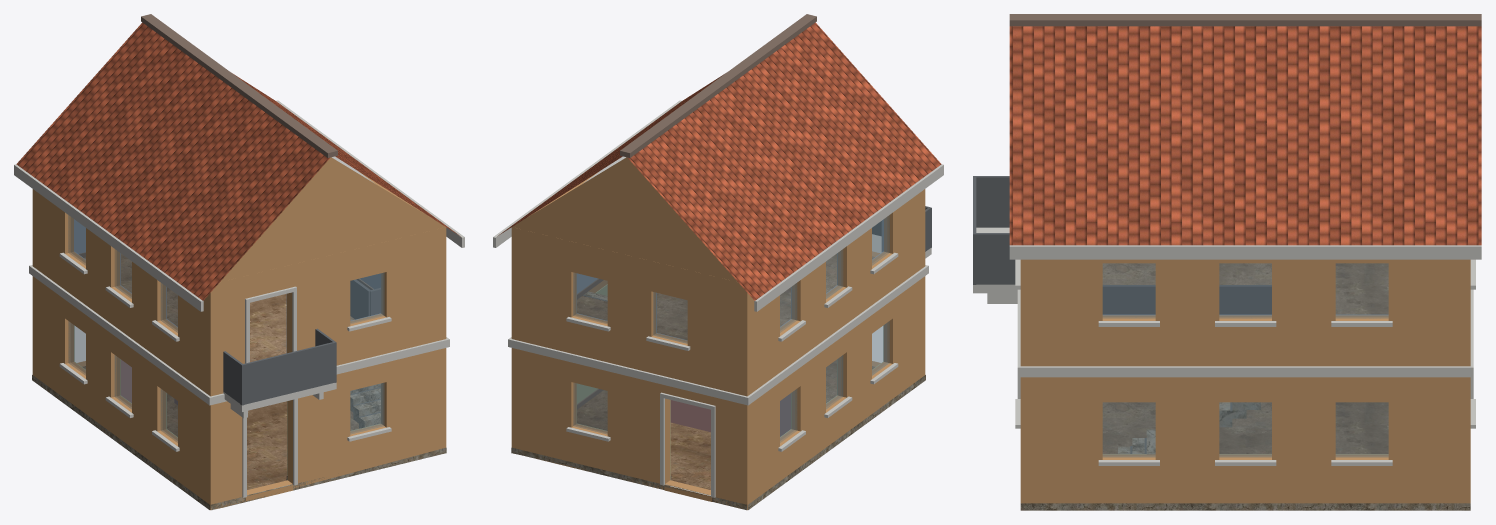
File: cove-house-orange.zfix-v9.lod0.glb
3 views of the same model, side by side, from view 1: azimuth 30°, elevation 25°; view 2: azimuth 150°, elevation 25°; view 3: azimuth 270°, elevation 25° (orthographic). The views are drawn at different scales.
Visible parts, largest first — view 1: cove-house-orange; view 2: cove-house-orange; view 3: cove-house-orange.
Part boxes in pixels (x1=…): cove-house-orange: x1=14, y1=14, x2=464, y2=510; cove-house-orange: x1=493, y1=14, x2=943, y2=510; cove-house-orange: x1=973, y1=14, x2=1481, y2=510.
Bounding box in the file's own units: 7.28 × 8.78 × 9.63.
Materials: 5 (3 with a texture image).
